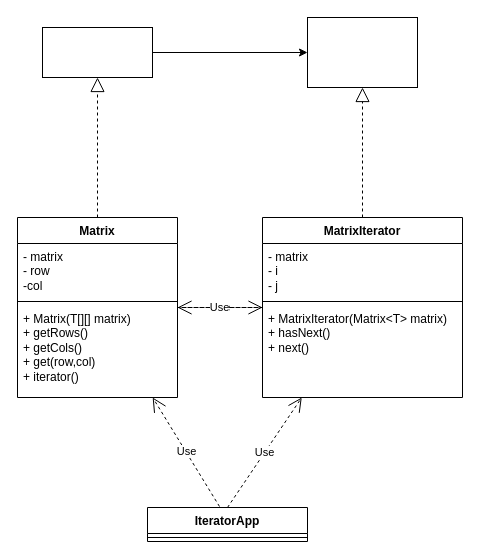
This 480x559 diagram has some shape labels left out. Each missing label, with the centre of its shape:
"«interface» Iterable<T> iterator()" belongs at (97,52).
"«interface» Iterator<T> hasNext() next()" belongs at (362,52).
